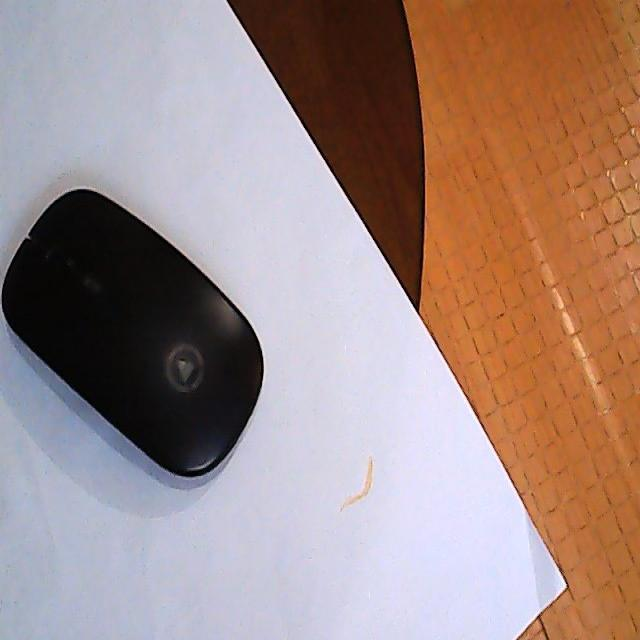Mouse: (2, 186, 265, 482)
